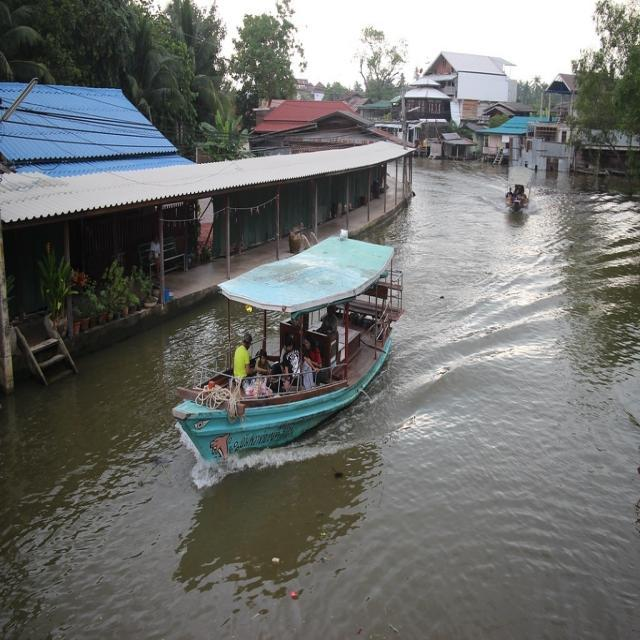boat: (172, 234, 408, 468), (494, 156, 538, 224)
